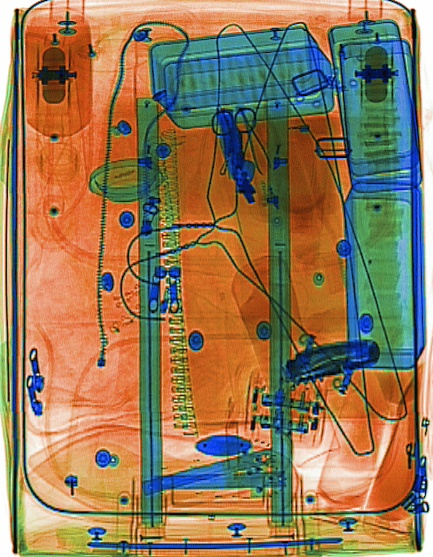knife: (284, 336, 382, 386)
